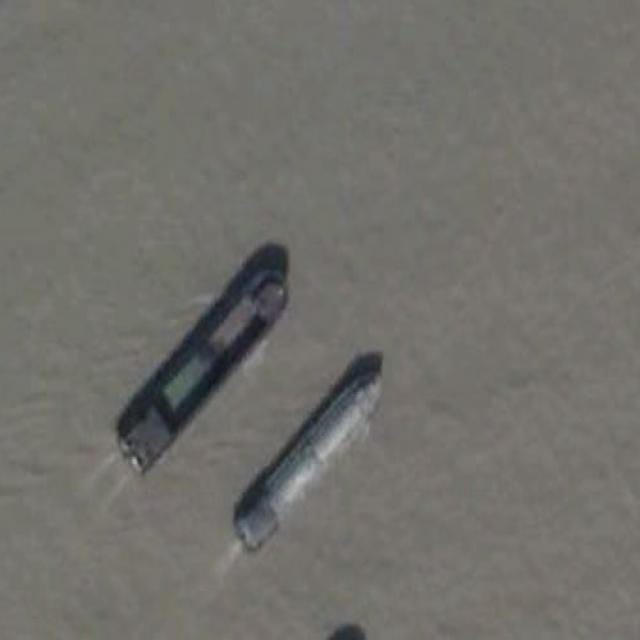ship: (116, 253, 302, 477), (232, 360, 390, 556)
